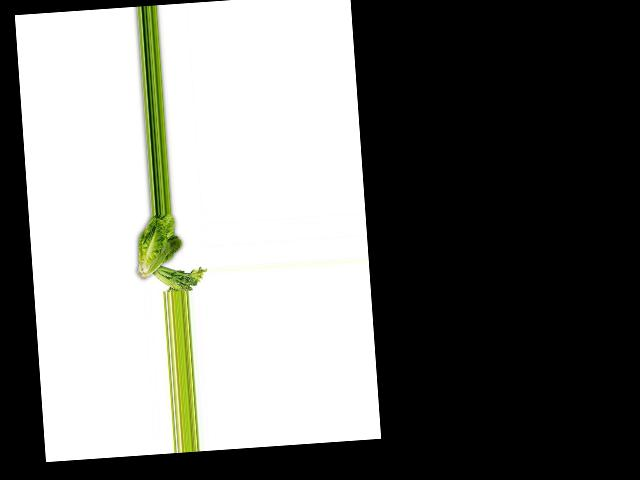lettuce: (135, 212, 189, 282)
